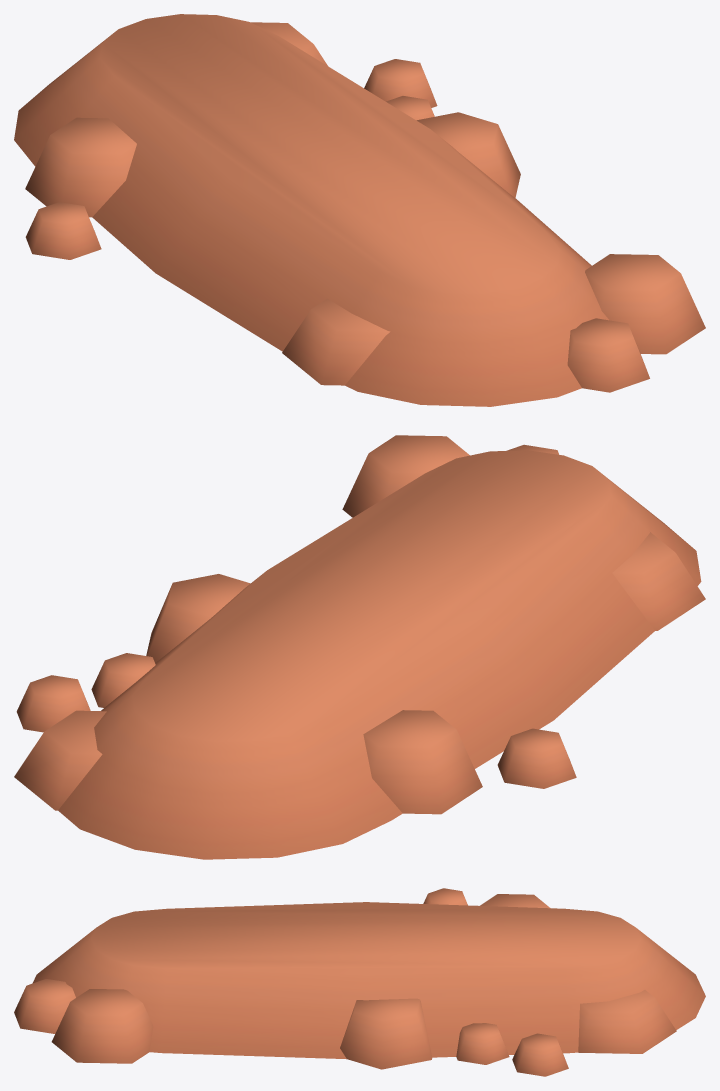
Rendered from grave.grave.glb.
3 views of the same model, one above another, from view 1: azimuth 30°, elevation 25°; view 2: azimuth 150°, elevation 25°; view 3: azimuth 270°, elevation 25° (orthographic). The views are drawn at different scales.
Visible parts, largest first — view 1: grave; view 2: grave; view 3: grave.
Part boxes in pixels (x1,y1,x2,y2): grave: [14, 14, 705, 406]; grave: [14, 435, 705, 859]; grave: [14, 888, 705, 1076].
Size of the model in its own units: 1.73 by 0.2719 by 2.96.
Materials: 1 (1 with a texture image).
